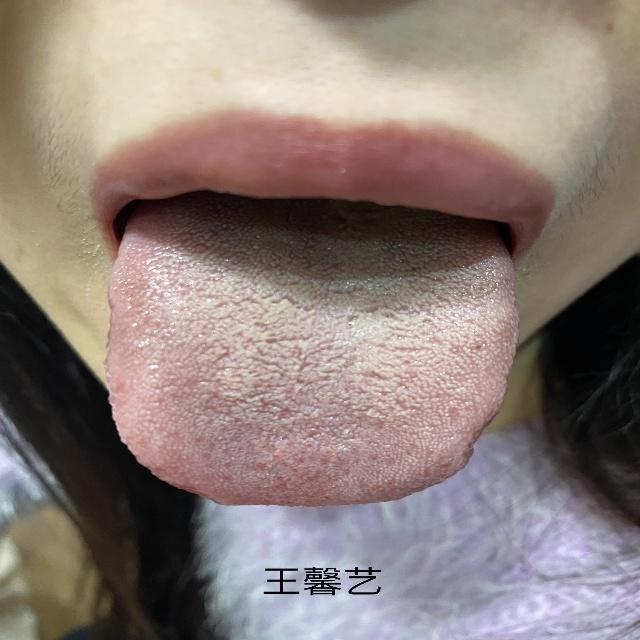baitaishe: (106, 215, 519, 508)
